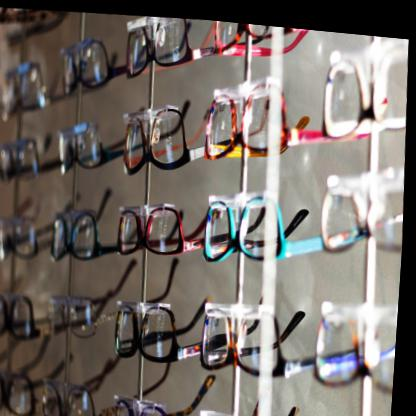Spectacles: (120, 99, 202, 181), (204, 186, 290, 264), (117, 298, 207, 364), (123, 11, 203, 81), (117, 198, 207, 259), (117, 392, 182, 415)
